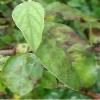Apple Scab Leaf: (29, 17, 99, 93), (2, 51, 49, 97)
